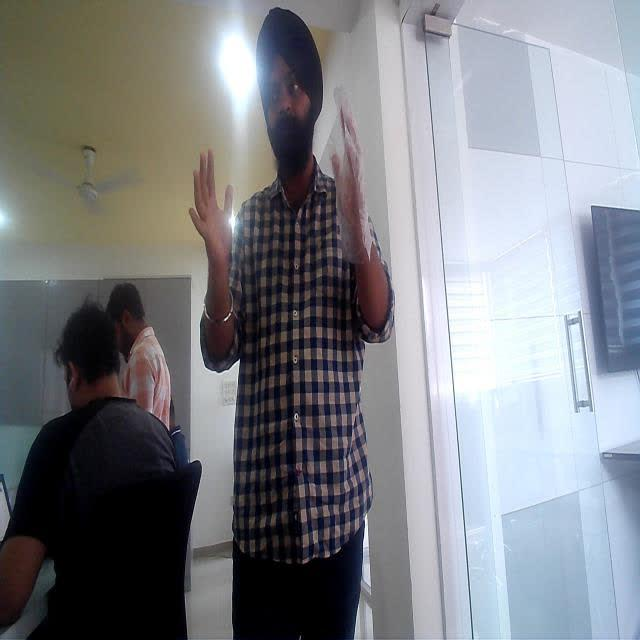with_gloves: (329, 85, 374, 268)
without_gloves: (183, 146, 246, 293)
